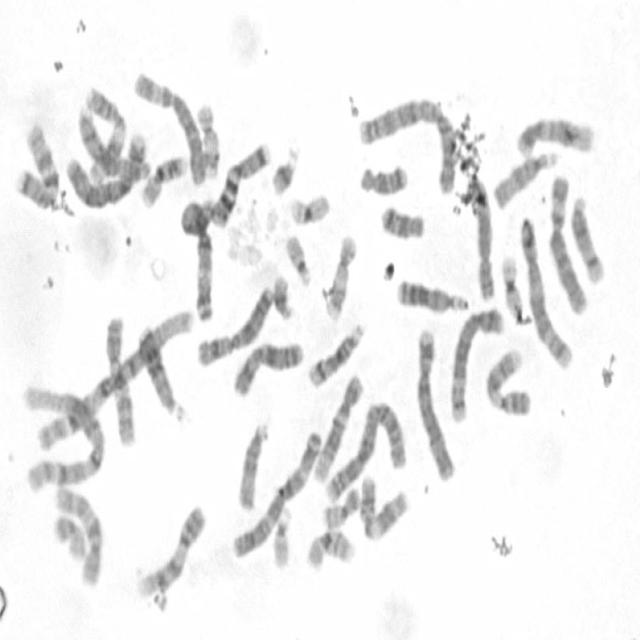A1: (24, 304, 198, 454), (19, 379, 106, 492)
A2: (355, 91, 460, 195), (320, 397, 408, 504)
A3: (228, 425, 324, 563), (178, 191, 216, 324)
B4: (412, 322, 458, 482), (63, 125, 148, 210)
B5: (517, 213, 573, 370), (446, 301, 505, 426)
C10: (51, 480, 104, 587), (101, 315, 137, 447)
C11: (84, 83, 132, 188), (355, 467, 411, 543)
C12: (310, 368, 365, 485), (512, 116, 596, 159)
C6: (132, 67, 207, 186), (544, 168, 590, 318)
C7: (209, 136, 273, 231), (12, 116, 60, 209)
C8: (76, 107, 154, 182), (467, 180, 495, 301)
C9: (134, 498, 208, 600), (481, 343, 534, 417)
D13: (134, 321, 186, 422), (392, 273, 470, 315)
D14: (305, 319, 366, 389), (566, 190, 608, 285)
D15: (490, 146, 557, 212), (235, 416, 269, 513)
E16: (138, 150, 186, 210), (303, 524, 356, 572)
E17: (322, 231, 358, 321), (195, 98, 220, 178)
E18: (378, 201, 426, 242), (357, 161, 408, 197)
F19: (499, 251, 524, 321), (287, 188, 332, 226)
F20: (321, 482, 362, 530), (51, 510, 87, 563)
G21: (267, 141, 301, 198), (270, 270, 296, 322)
G22: (282, 227, 313, 288), (270, 504, 294, 571)
X: (193, 282, 275, 368), (230, 340, 305, 400)
